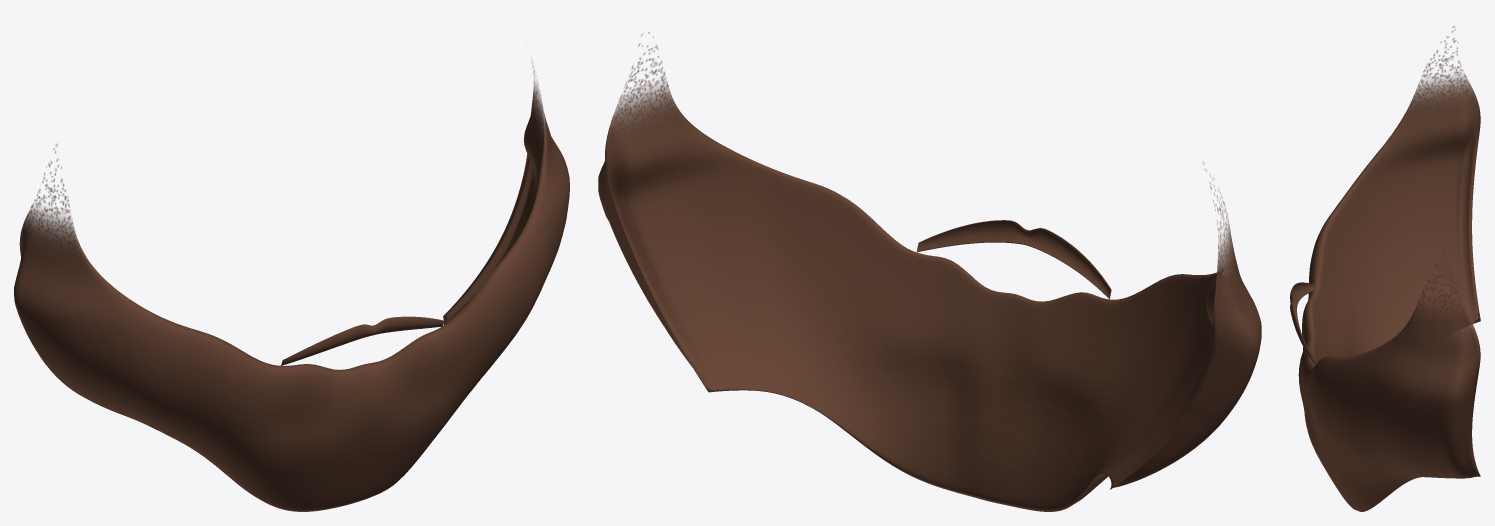
File: Masculine-groom-long.glb
3 renders of one model, left to right at view 1: azimuth 30°, elevation 25°; view 2: azimuth 150°, elevation 25°; view 3: azimuth 270°, elevation 25°, orthographic. The views are drawn at different scales.
Visible parts, largest first — view 1: Groom / long body184, Groom / shared mustache185; view 2: Groom / long body184, Groom / shared mustache185; view 3: Groom / long body184, Groom / shared mustache185.
Part boxes in pixels (<box>): Groom / long body184: <box>14,58,569,511</box>; Groom / shared mustache185: <box>281,316,444,365</box>; Groom / long body184: <box>598,32,1261,511</box>; Groom / shared mustache185: <box>916,220,1111,298</box>; Groom / long body184: <box>1298,26,1480,511</box>; Groom / shared mustache185: <box>1290,282,1315,364</box>.
Bounding box in the file's own units: 1.02 × 0.7021 × 0.3244.
Materials: 2 (1 with a texture image).
